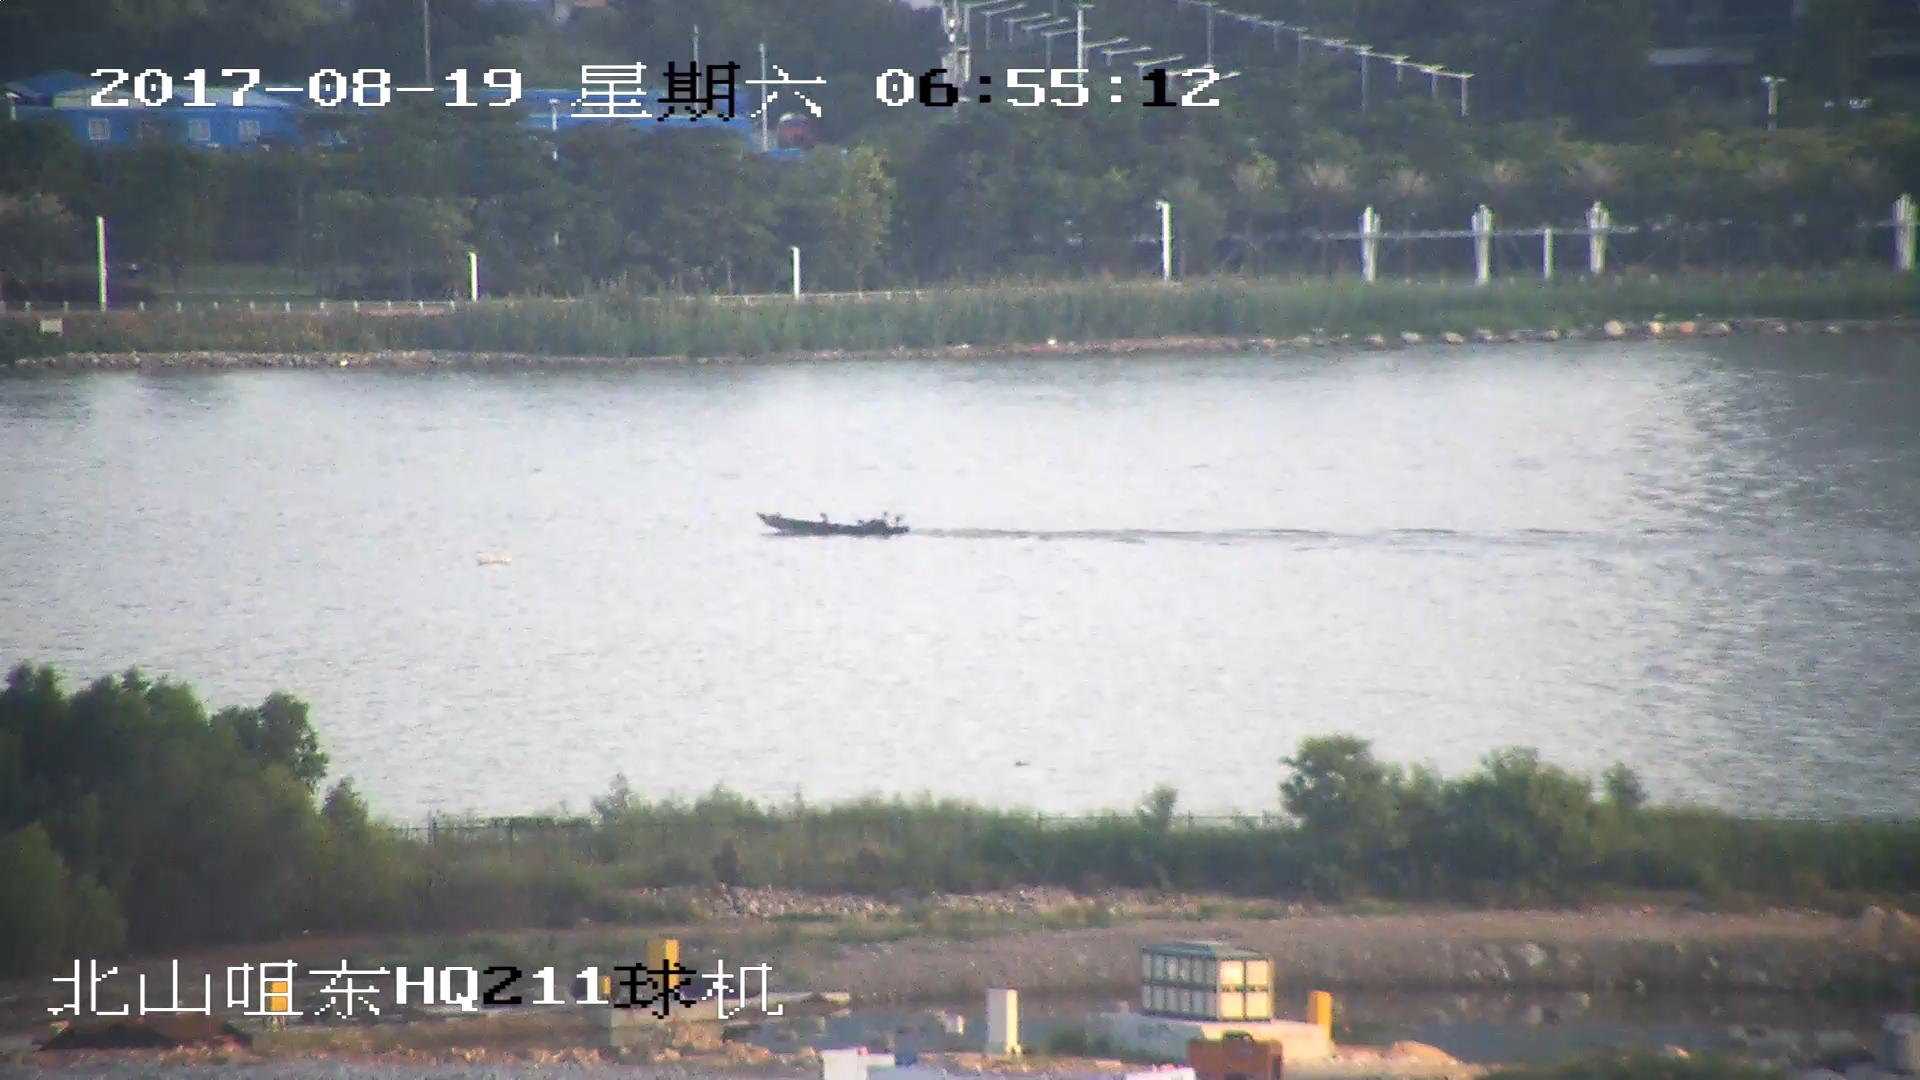fishing boat: (761, 506, 908, 539)
